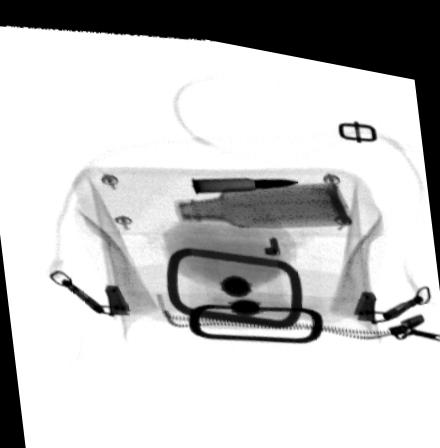Bullet: (190, 166, 300, 187)
